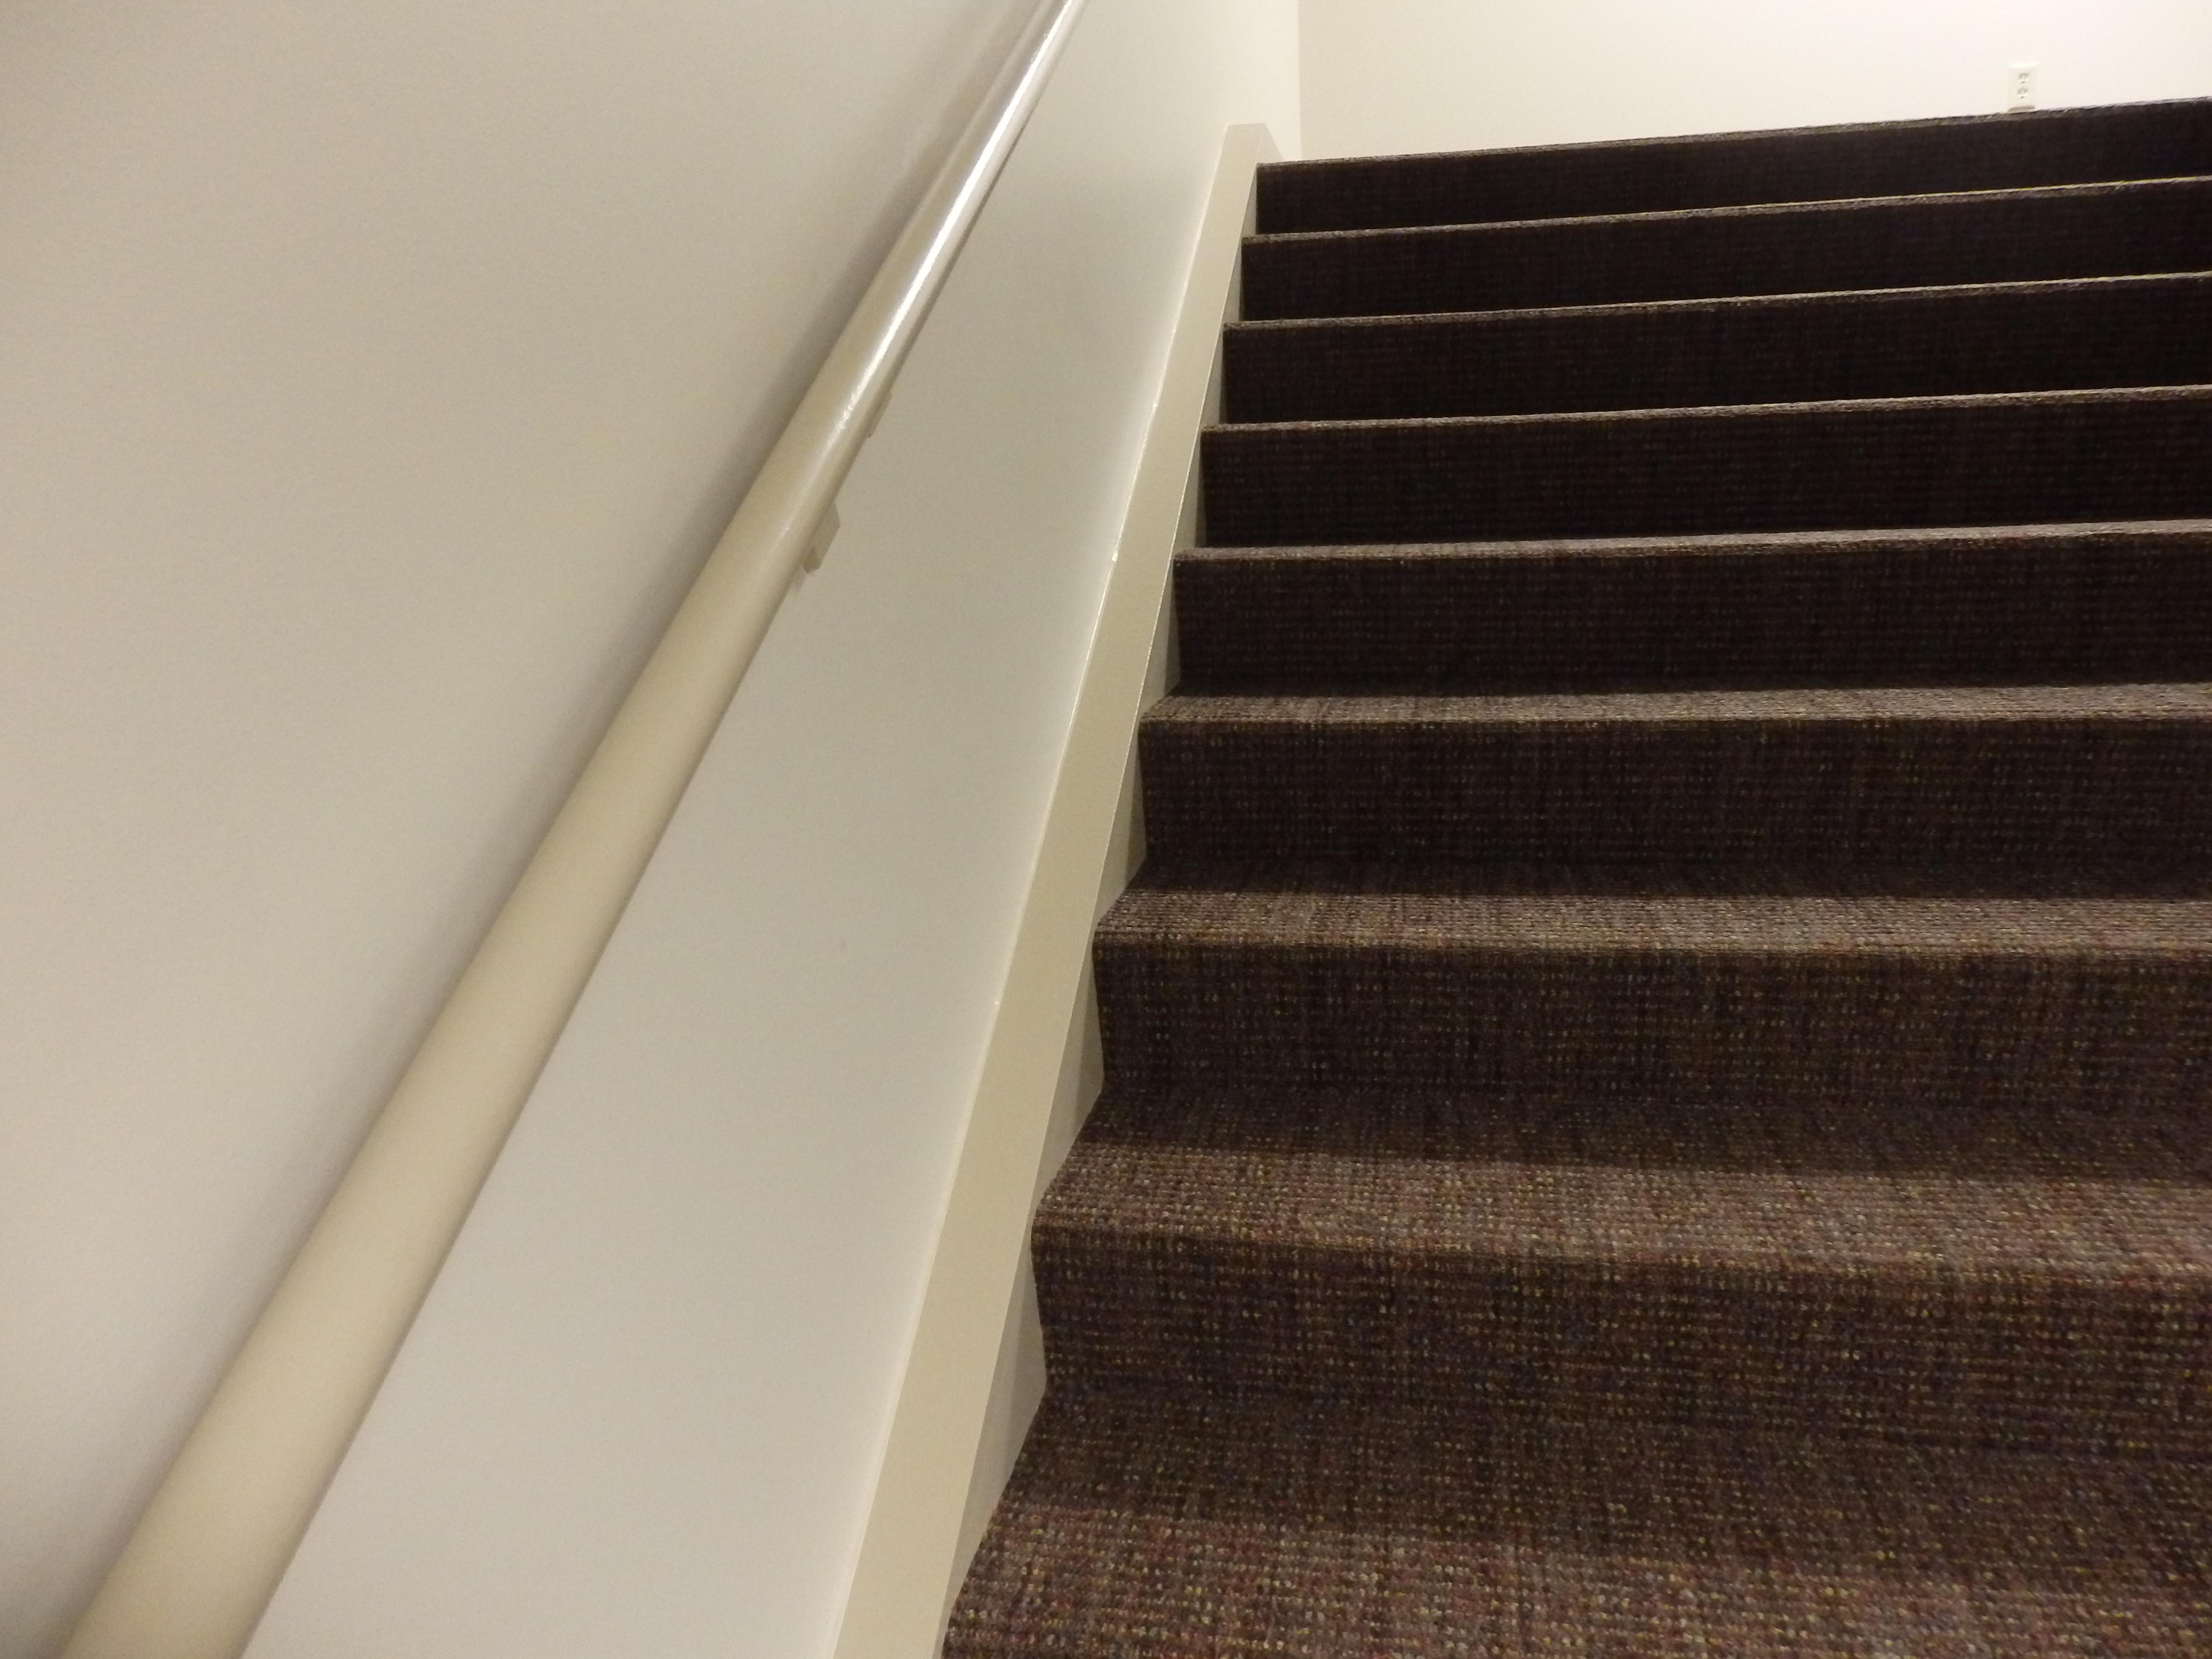stairs_up: (1096, 66, 2209, 1659)
